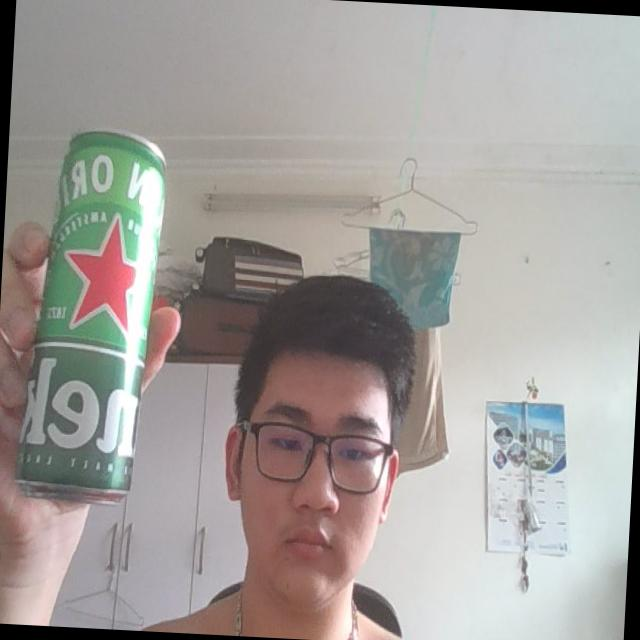Heineken: (10, 121, 170, 512)
